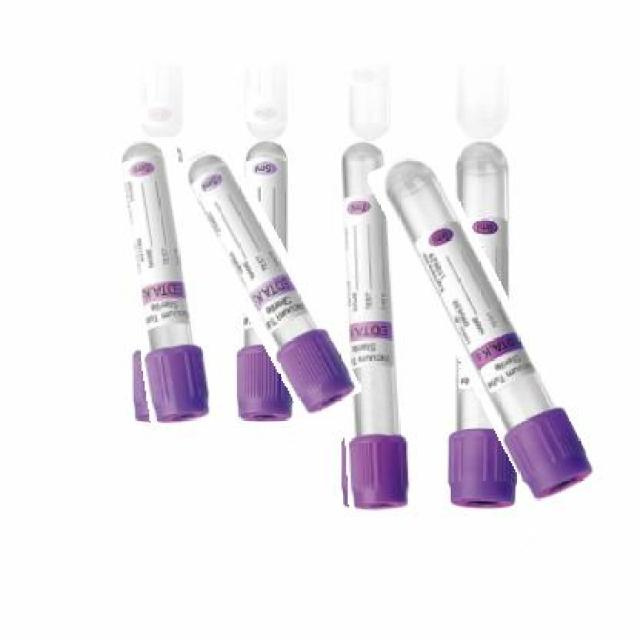Experimental-tube: (406, 142, 557, 509), (200, 138, 329, 422), (334, 140, 408, 515), (119, 137, 208, 426)
